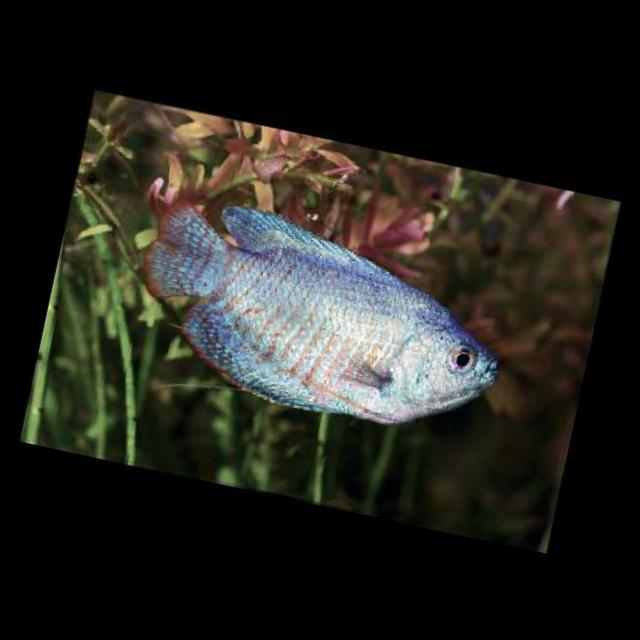Gourami: (117, 183, 524, 451)
